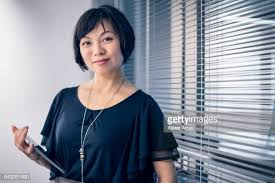asian_female: (64, 1, 148, 90)
